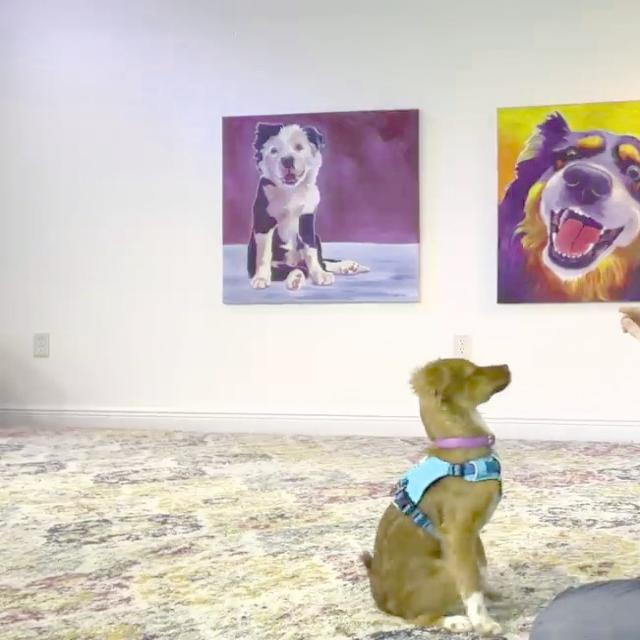Dog: (358, 358, 512, 633)
